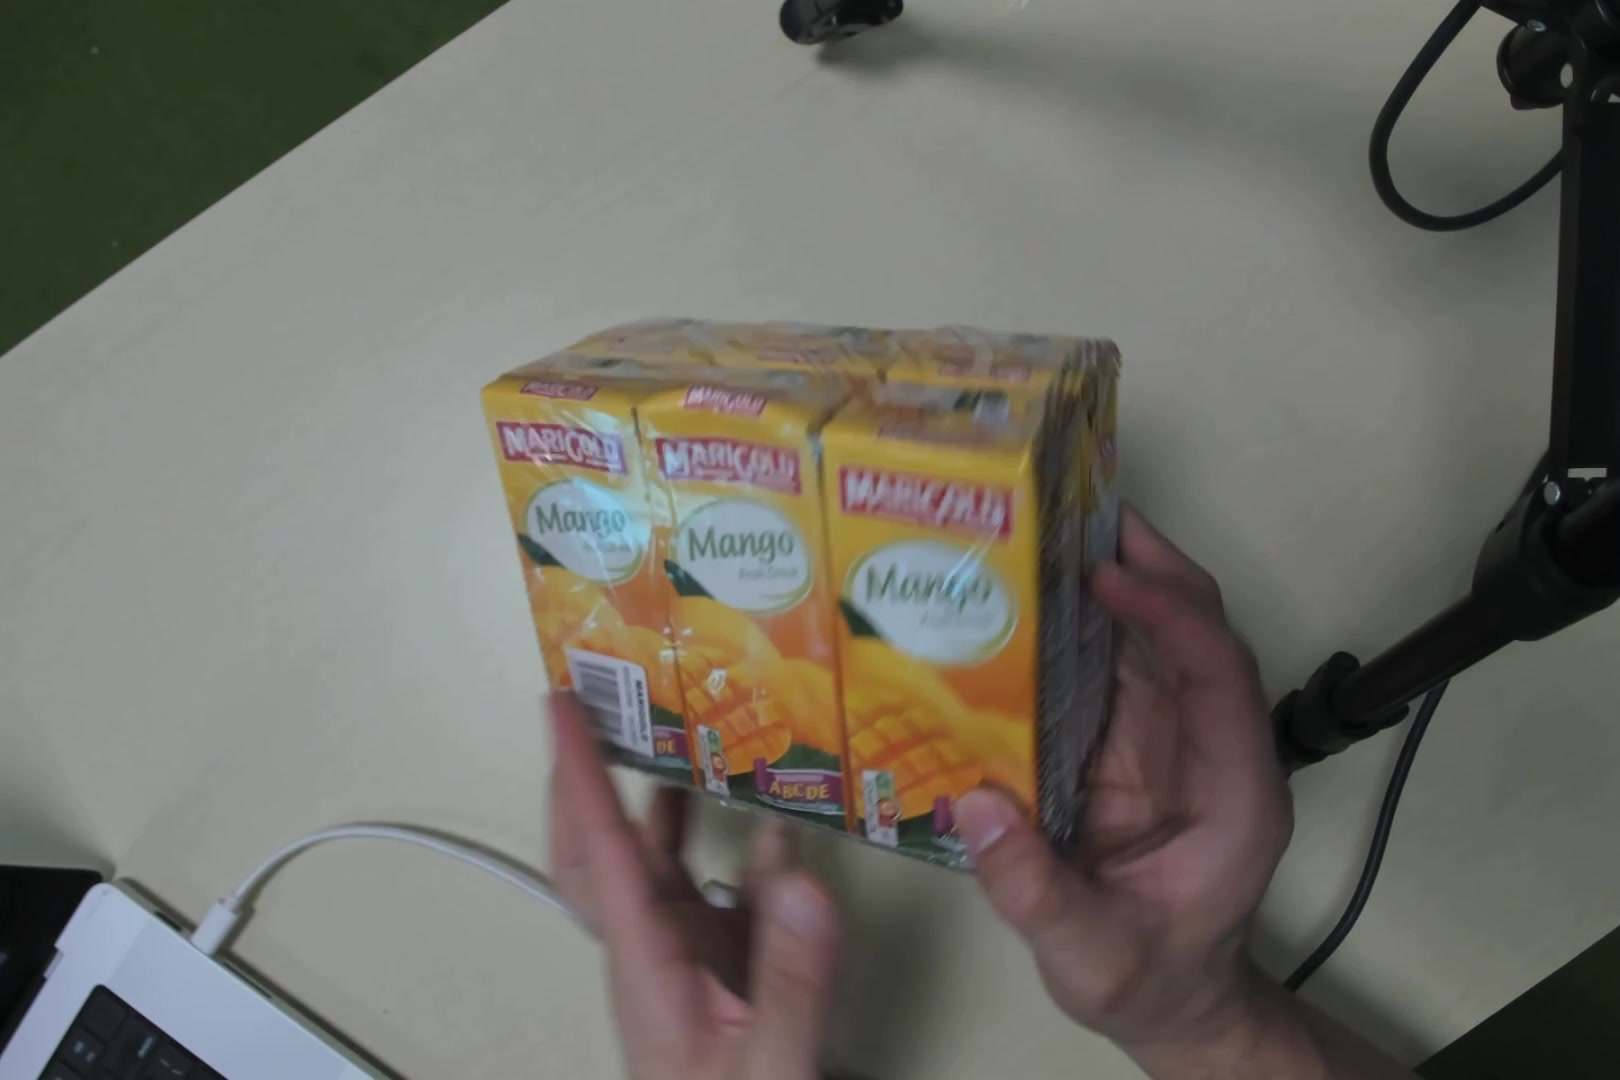FruitJuice_700-799g_Halal_NonHealthy: (479, 278, 1168, 862)
